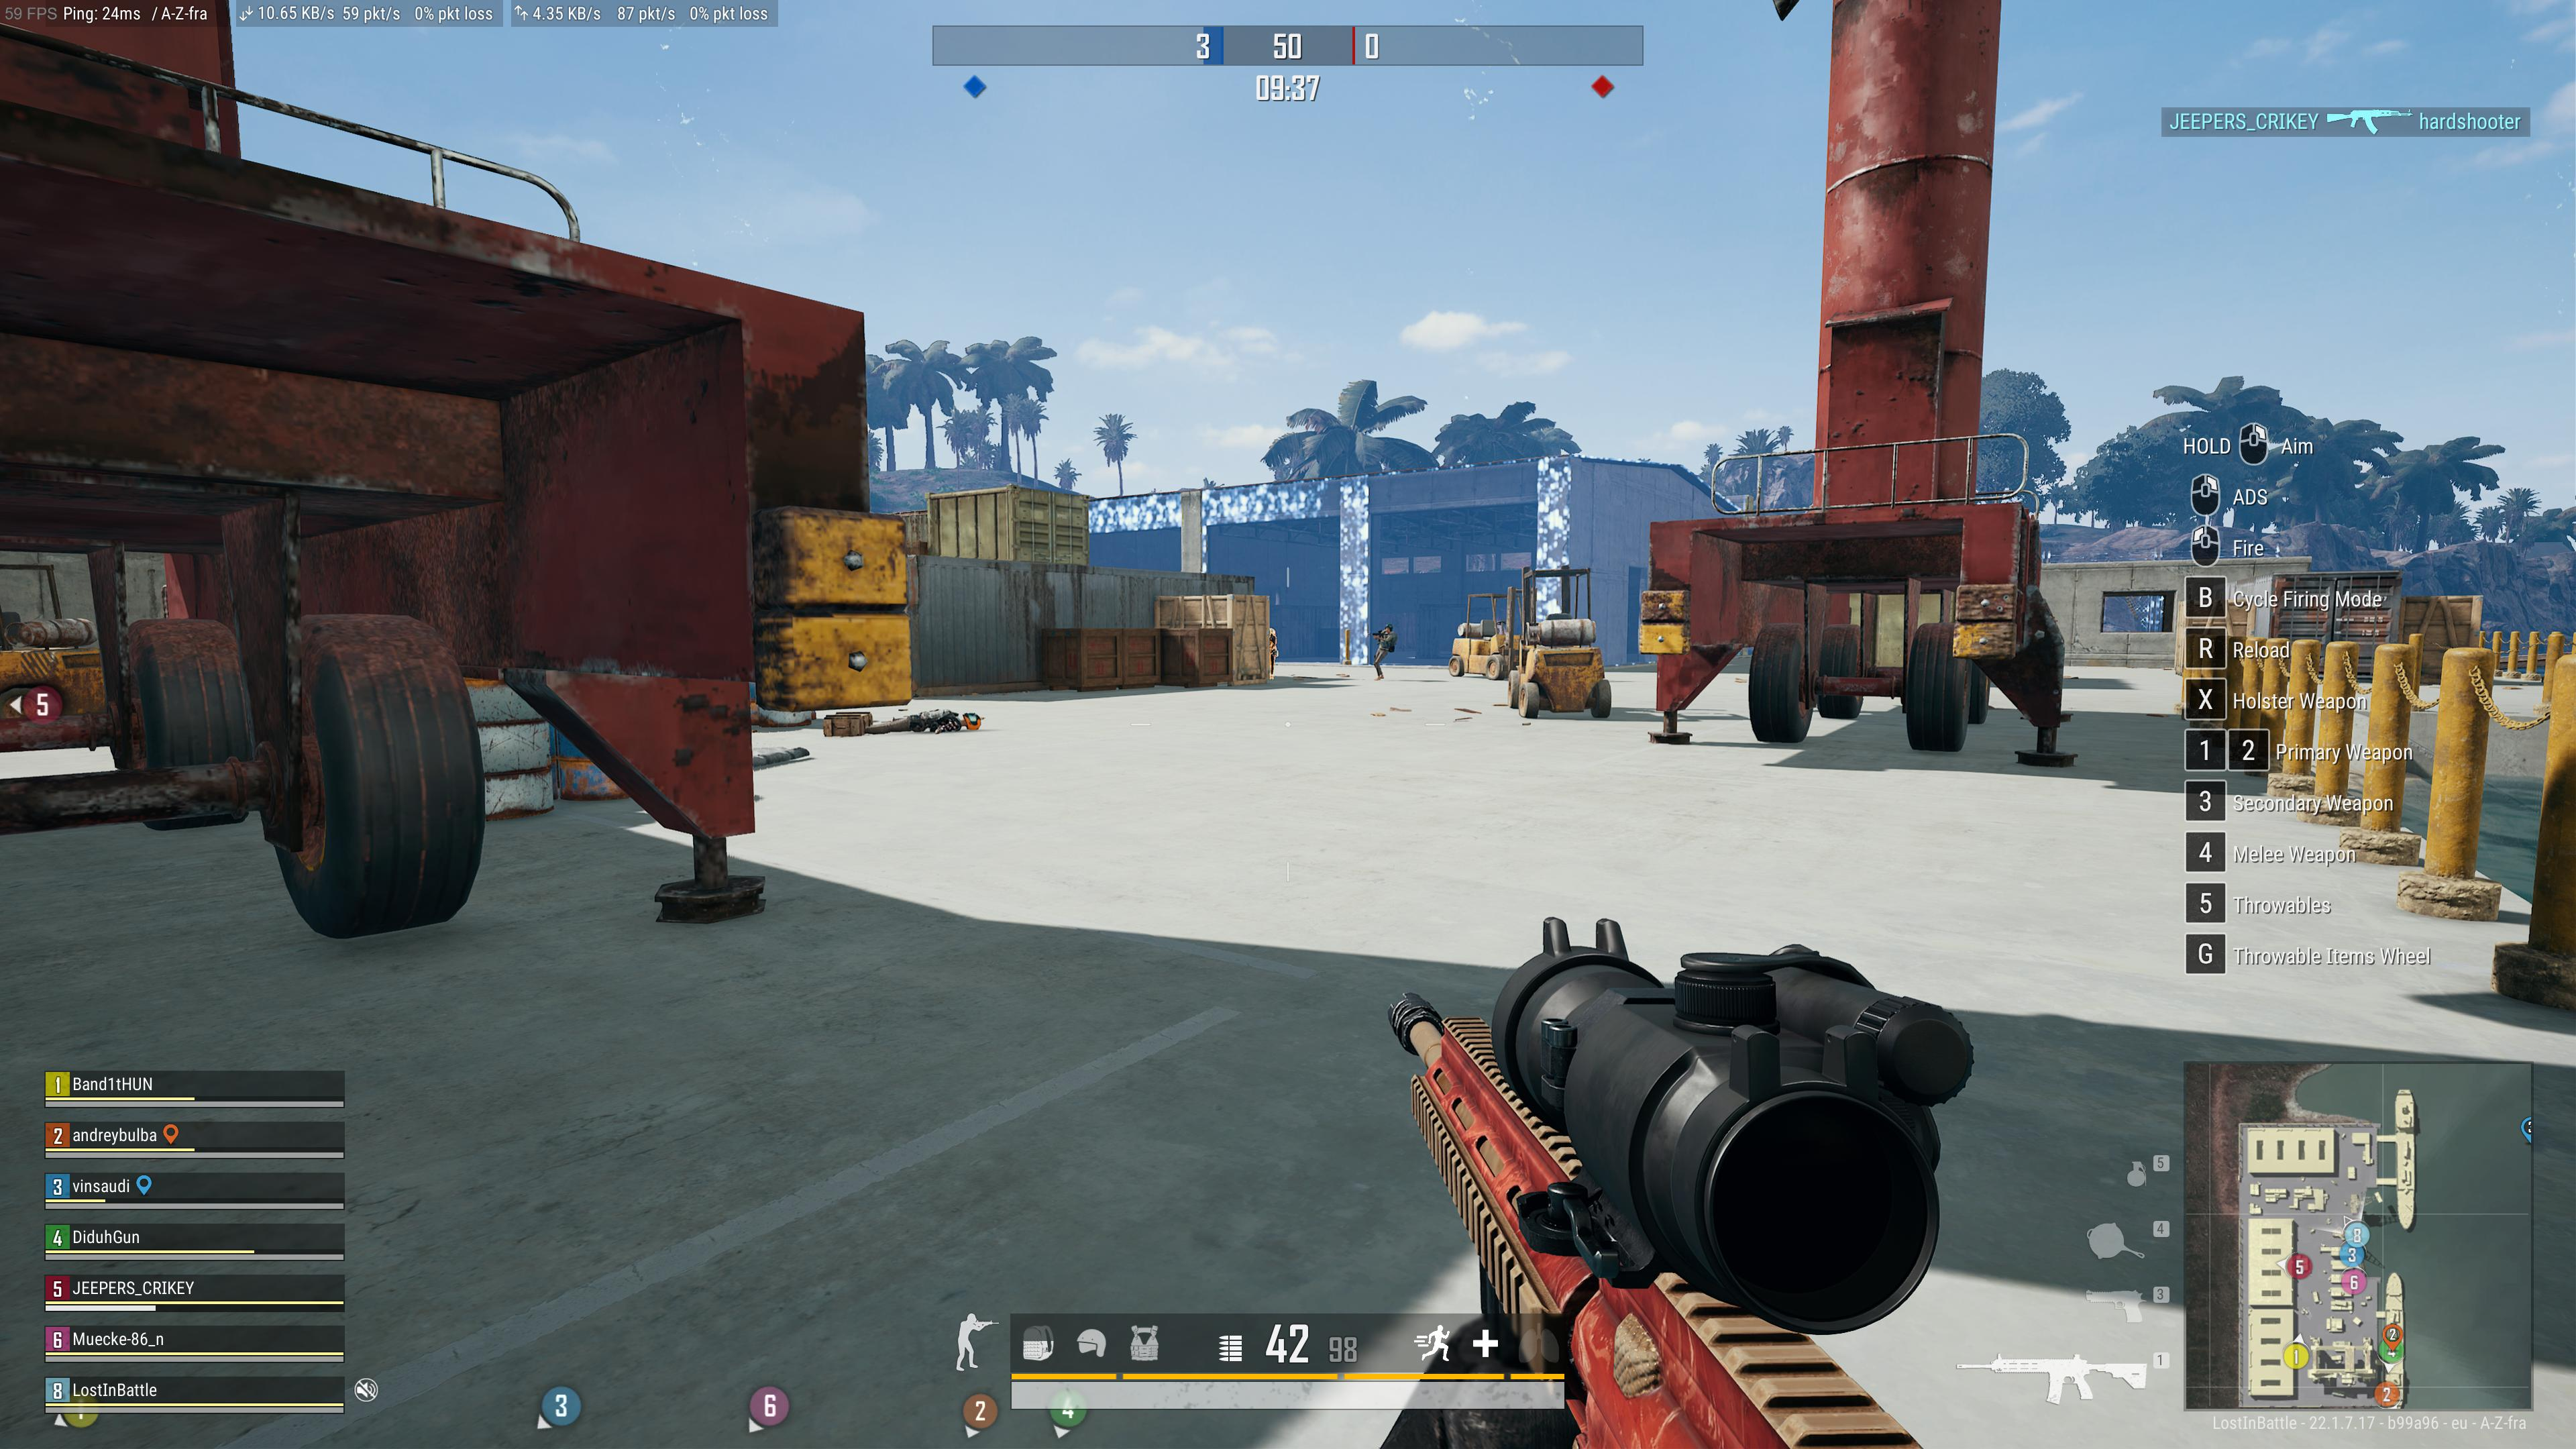enemy: (872, 708, 980, 734), (1369, 623, 1398, 679), (1269, 626, 1277, 679)
enemy_head: (962, 711, 980, 731), (1384, 623, 1392, 633)
